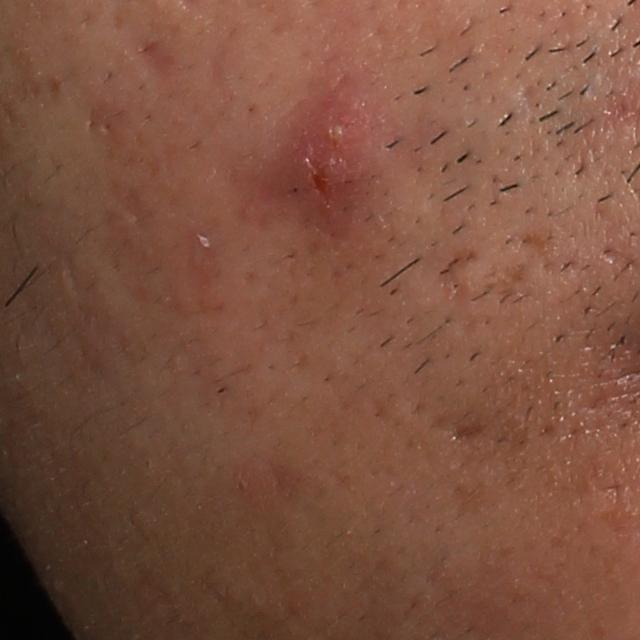atrophic_scar: (406, 392, 516, 495), (510, 216, 585, 279), (118, 36, 187, 98), (428, 241, 472, 312), (486, 265, 538, 308)
